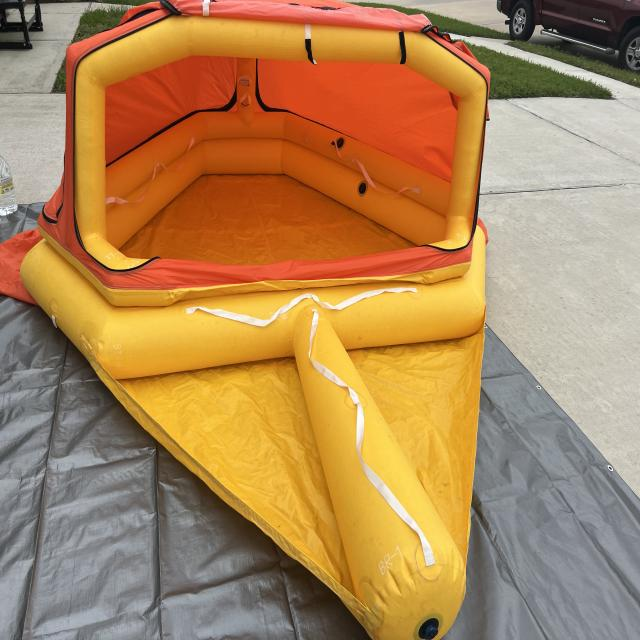Multi-person_life_raft: (0, 1, 492, 639)
